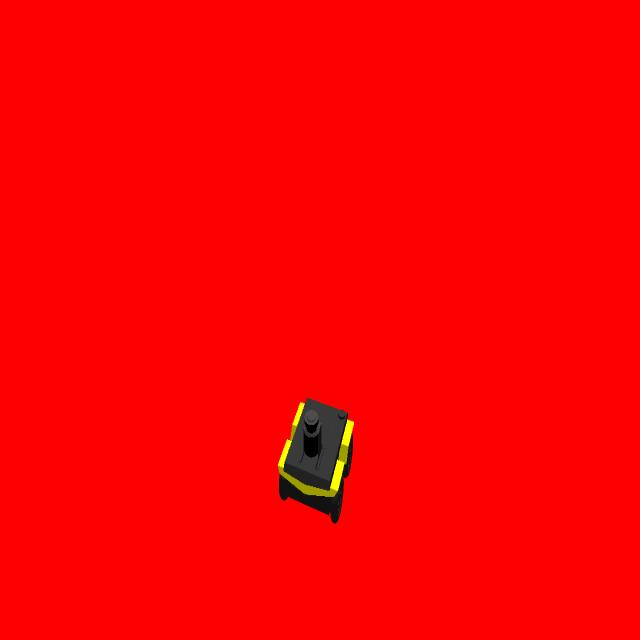jackal: (276, 392, 356, 527)
